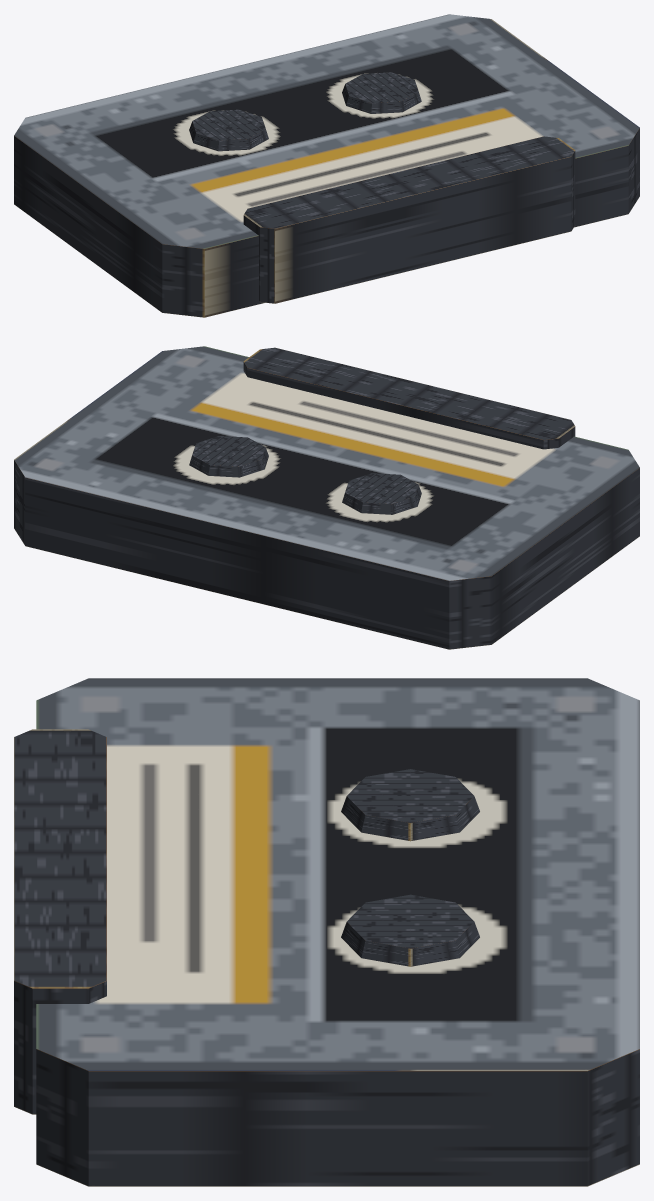
Rendered from Item_Tape_Rowan2.fbx.
3 renders of one model, top to bottom at view 1: azimuth 30°, elevation 25°; view 2: azimuth 150°, elevation 25°; view 3: azimuth 270°, elevation 25°, orthographic. The views are drawn at different scales.
Parts seen in each view (by area): view 1: Item_Tape_Rowan2; view 2: Item_Tape_Rowan2; view 3: Item_Tape_Rowan2.
Part boxes in pixels (bbox=[...]): Item_Tape_Rowan2: bbox=[14, 14, 639, 317]; Item_Tape_Rowan2: bbox=[14, 346, 639, 649]; Item_Tape_Rowan2: bbox=[14, 678, 639, 1186].
Size of the model in its own units: 16 by 2.5 by 10.78.
